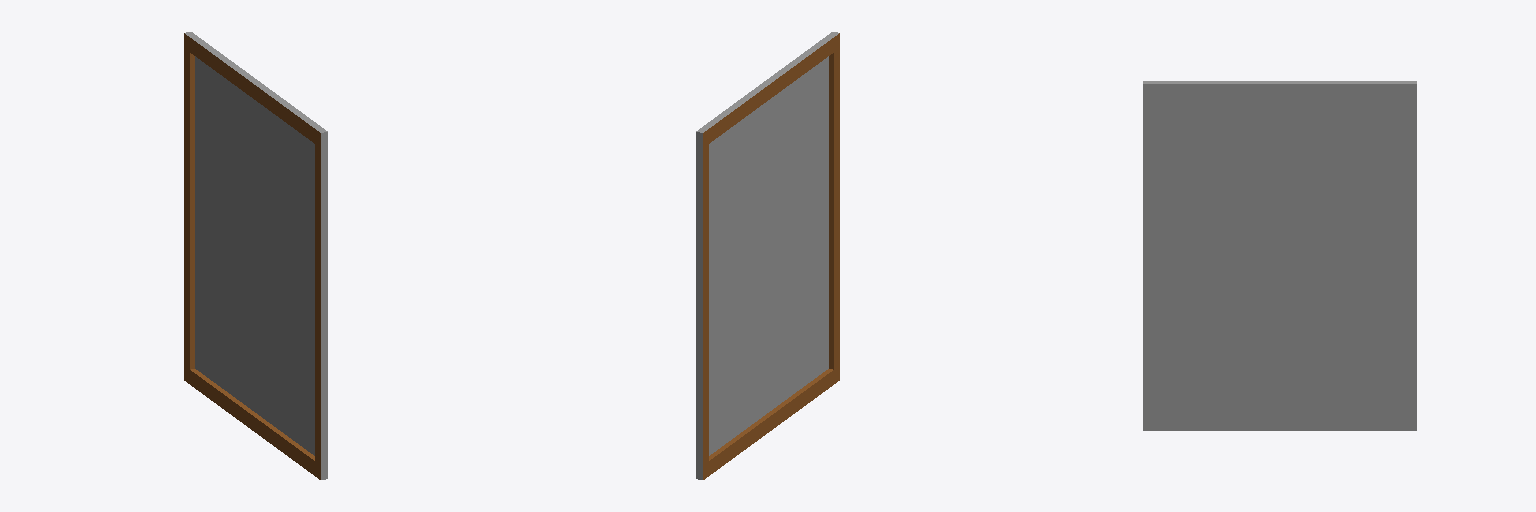
Rendered from canvasLong.obj.
The picture shows the model from 3 angles: view 1: azimuth 30°, elevation 25°; view 2: azimuth 150°, elevation 25°; view 3: azimuth 270°, elevation 25°; orthographic projection.
Parts seen in each view (by area): view 1: Canvas_Cube.001; view 2: Canvas_Cube.001; view 3: Canvas_Cube.001.
Part boxes in pixels (x1,y1,x2,y2): Canvas_Cube.001: (184, 32, 327, 479); Canvas_Cube.001: (696, 32, 839, 479); Canvas_Cube.001: (1143, 81, 1416, 430).
Size of the model in its own units: 0.0417 by 2 by 1.43.